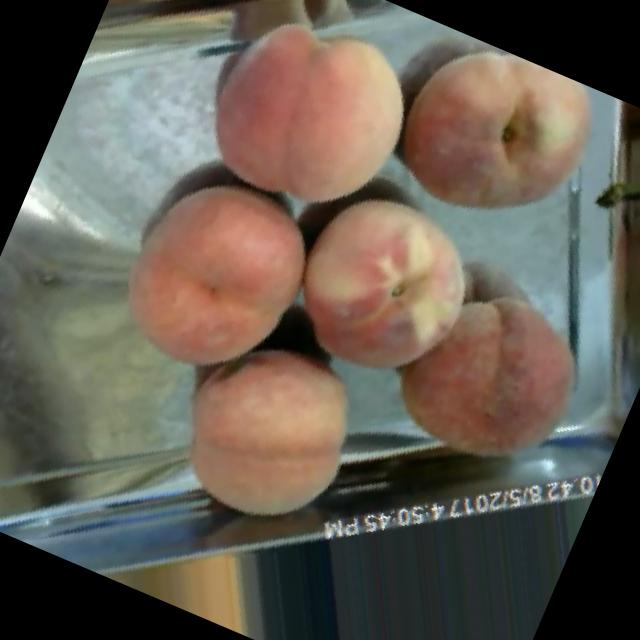Fruit: (339, 229, 640, 534), (229, 143, 526, 452), (144, 0, 468, 269), (64, 122, 340, 420), (128, 294, 412, 576), (347, 15, 635, 282), (56, 481, 320, 640), (84, 0, 248, 97)
